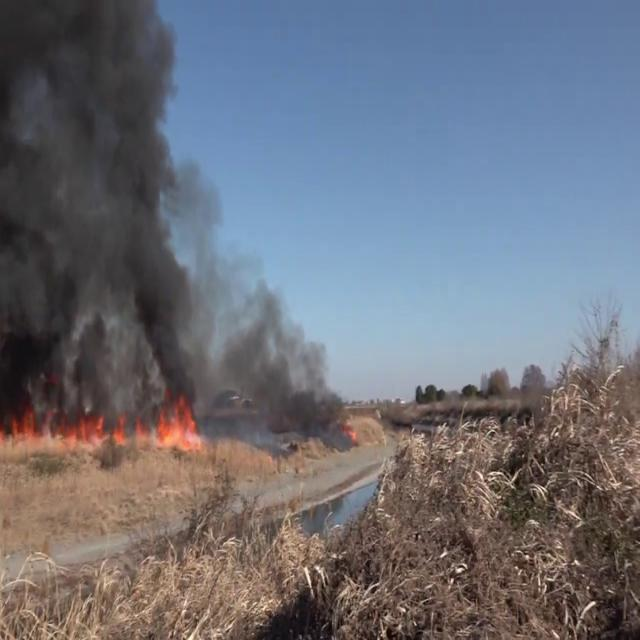Fire: (0, 395, 115, 452), (154, 388, 202, 453)
Smoke: (0, 0, 213, 422), (200, 260, 360, 434)
